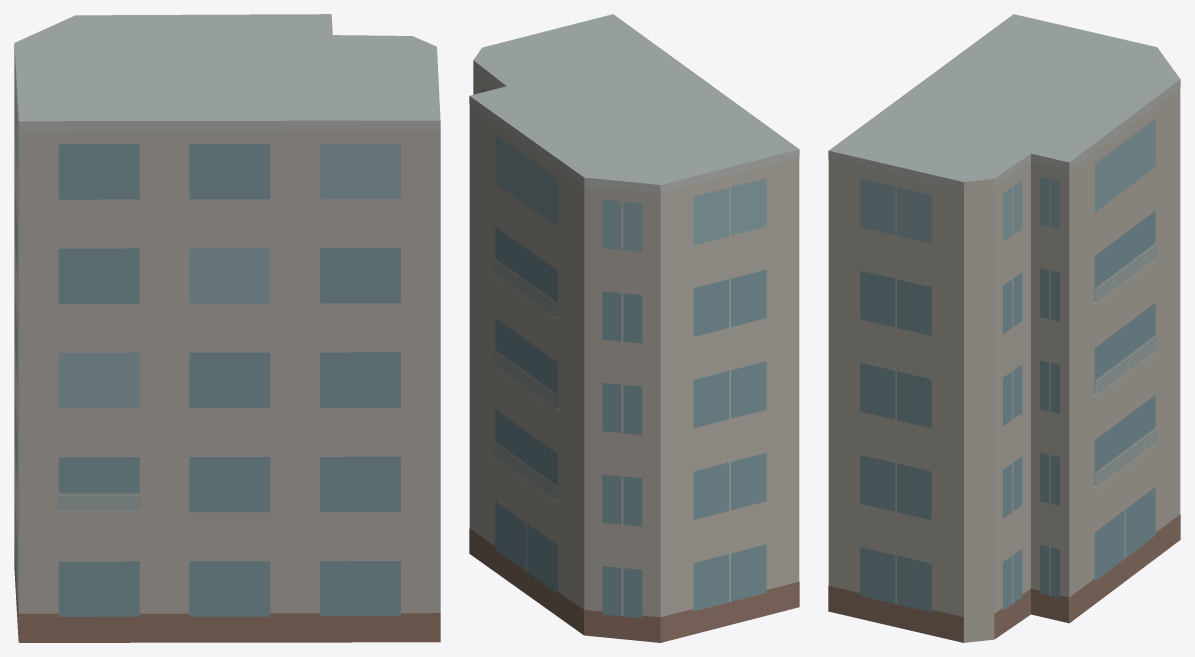
The model's file is survey-upis-32560450.glb.
3 views of the same model, side by side, from view 1: azimuth 30°, elevation 25°; view 2: azimuth 150°, elevation 25°; view 3: azimuth 270°, elevation 25° (orthographic). The views are drawn at different scales.
Parts seen in each view (by area): view 1: survey-upis-32560450.tmp; view 2: survey-upis-32560450.tmp; view 3: survey-upis-32560450.tmp.
Boxes of the visible parts, x1,y1,x2,y2 form: survey-upis-32560450.tmp: (14,14,440,642); survey-upis-32560450.tmp: (469,14,799,642); survey-upis-32560450.tmp: (828,14,1180,642).
Size of the model in its own units: 10.61 by 13.55 by 9.39.
